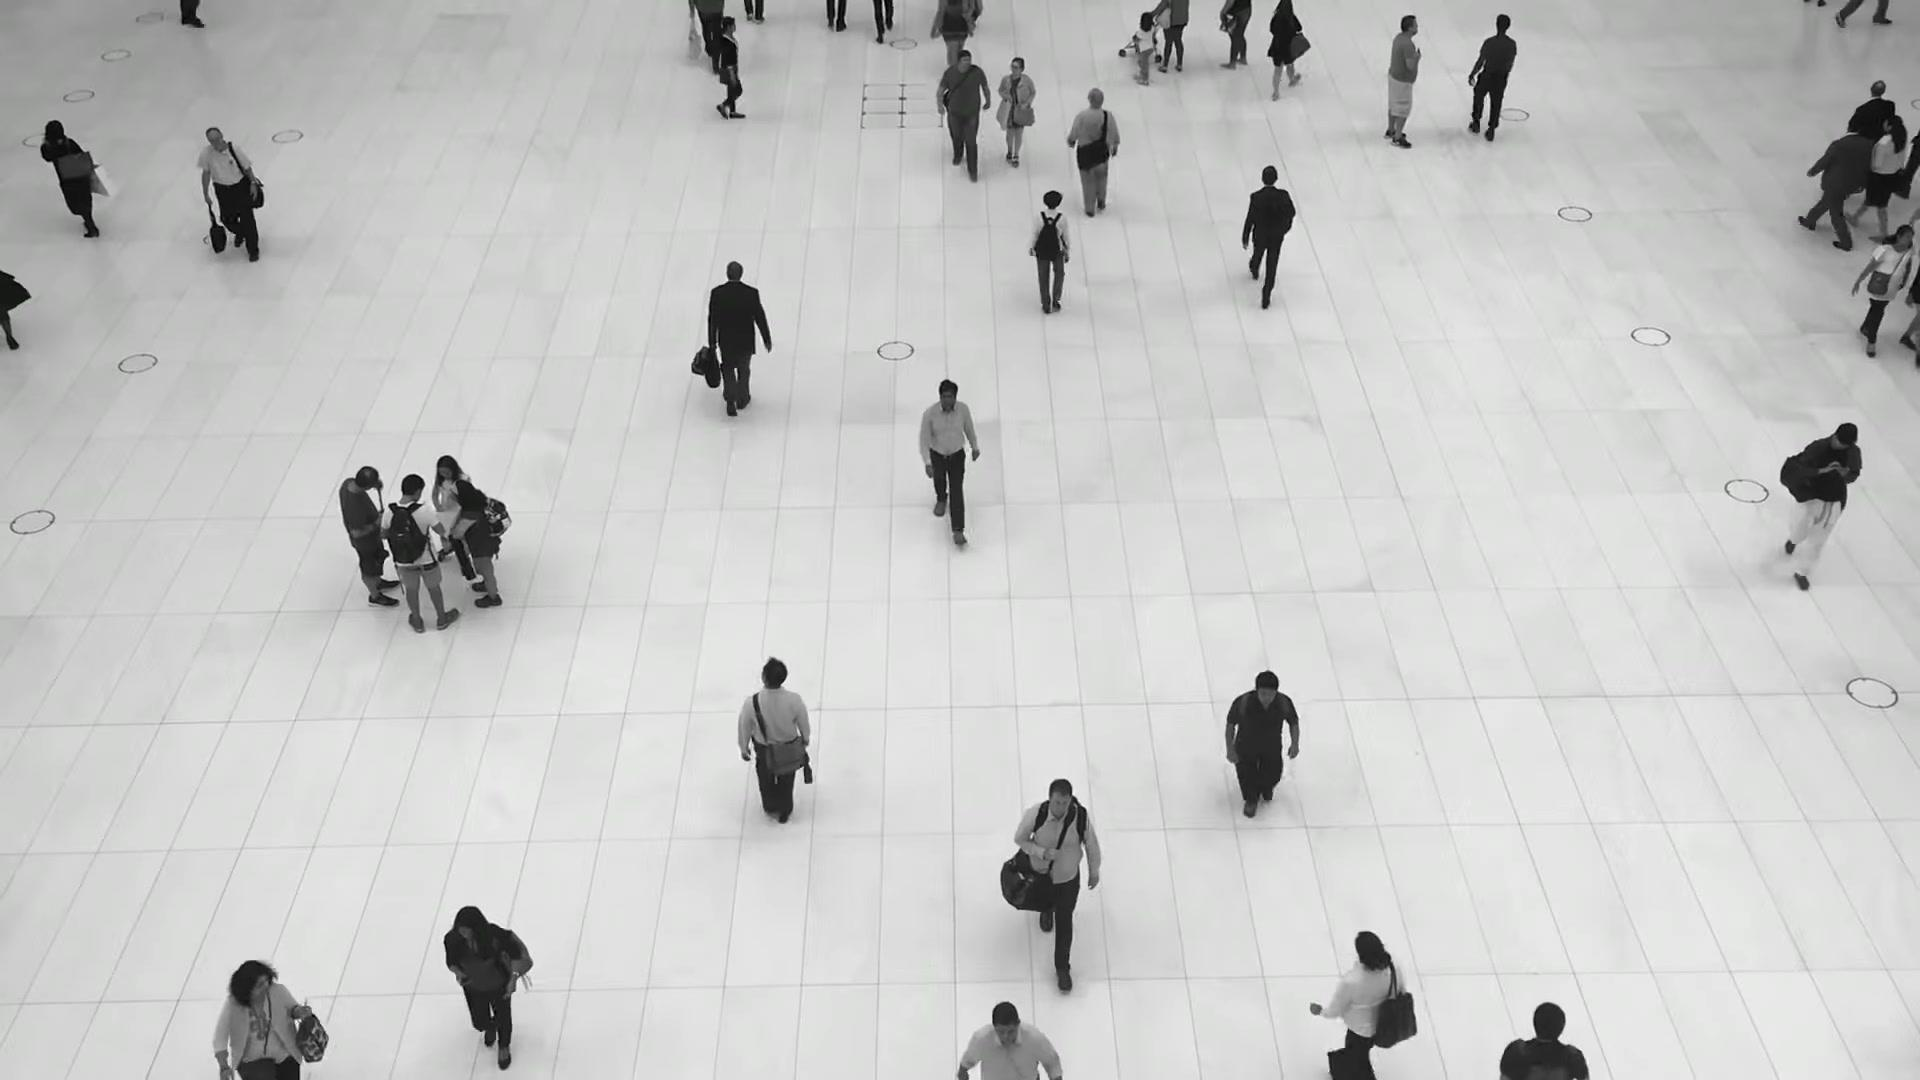person: (1014, 775, 1101, 993), (1305, 929, 1405, 1080), (1781, 421, 1862, 590), (736, 659, 812, 829), (378, 476, 459, 636), (211, 954, 311, 1080), (443, 903, 520, 1068), (1223, 668, 1301, 815), (918, 379, 981, 547), (1799, 118, 1875, 250), (706, 262, 771, 416), (335, 465, 400, 610), (196, 125, 261, 264), (1848, 223, 1914, 358), (954, 1000, 1061, 1079), (1241, 166, 1297, 311), (1846, 114, 1907, 242), (1066, 88, 1122, 221), (935, 48, 990, 182), (39, 119, 100, 239), (1498, 1002, 1589, 1080), (449, 482, 501, 611), (1465, 14, 1516, 145), (1028, 190, 1073, 317), (427, 458, 468, 580), (1384, 15, 1421, 148), (995, 57, 1036, 170), (1264, 1, 1303, 101), (717, 16, 747, 121), (1135, 11, 1154, 86)
